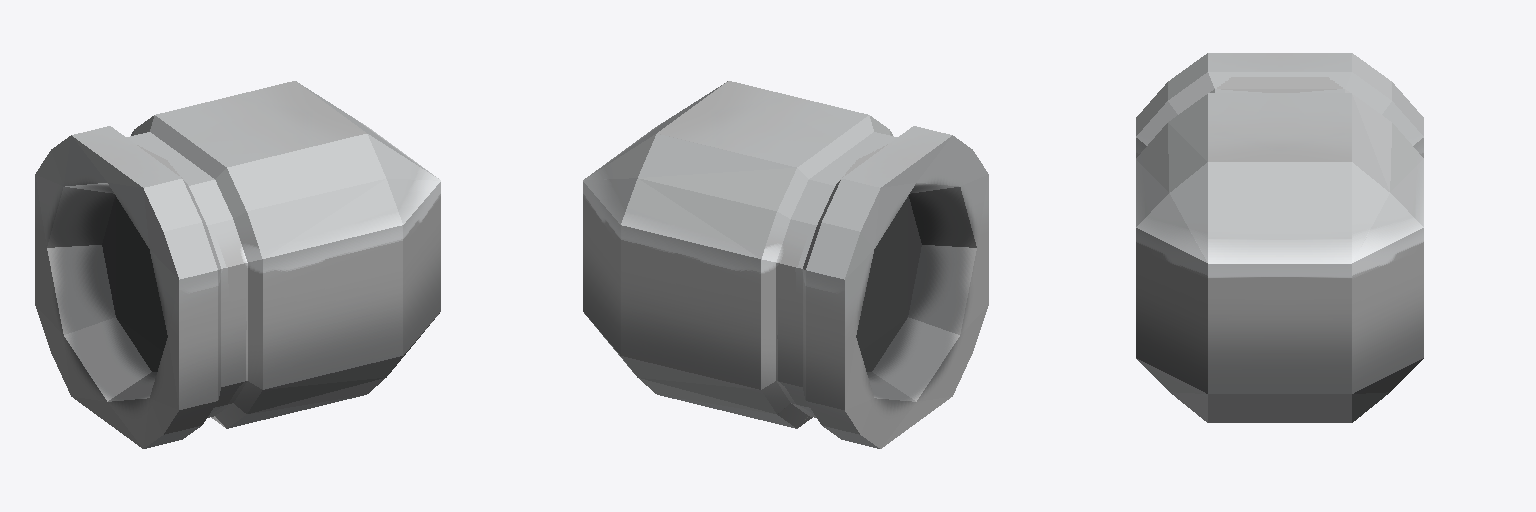
3 renders of one model, left to right at view 1: azimuth 30°, elevation 25°; view 2: azimuth 150°, elevation 25°; view 3: azimuth 270°, elevation 25°, orthographic.
Parts seen in each view (by area): view 1: Cube; view 2: Cube; view 3: Cube.
Part boxes in pixels (x1,y1,x2,y2): Cube: (35,81,440,448); Cube: (583,81,988,448); Cube: (1136,53,1423,422).
Size of the model in its own units: 2.39 by 2 by 2.
Materials: 1 (1 with a texture image).